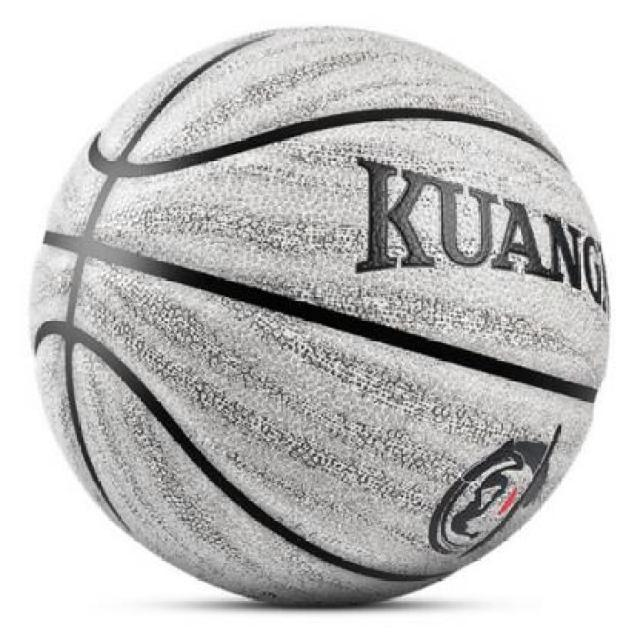basketball: (26, 26, 598, 602)
